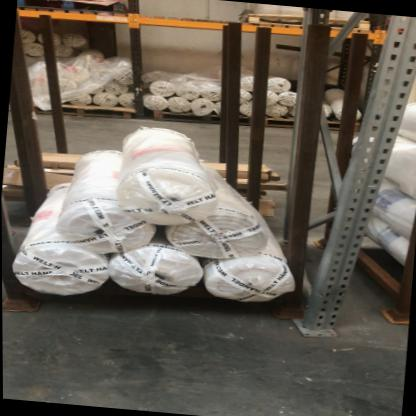vertical_damage: (294, 294, 351, 346)
